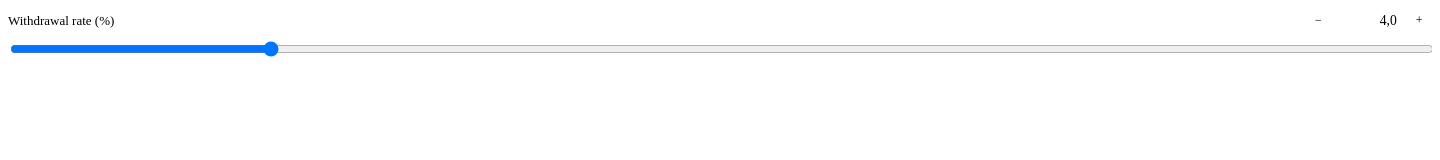
Test: typing a number with a letter in it, or too many digits, into a field › takes "about 4" for no percentage, not for the least the field allows
The image size is (1440, 160).
Replace the text in the field named "Withdrawal rate (%)" with "about 4": {"x": 1369, "y": 21} [1335,9,1402,33]
Then press Enter
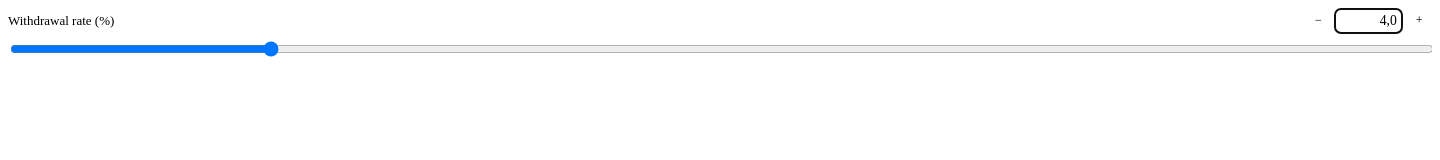
Now the field named "Withdrawal rate (%)" holds "4,0", box [1335,9,1402,33]
